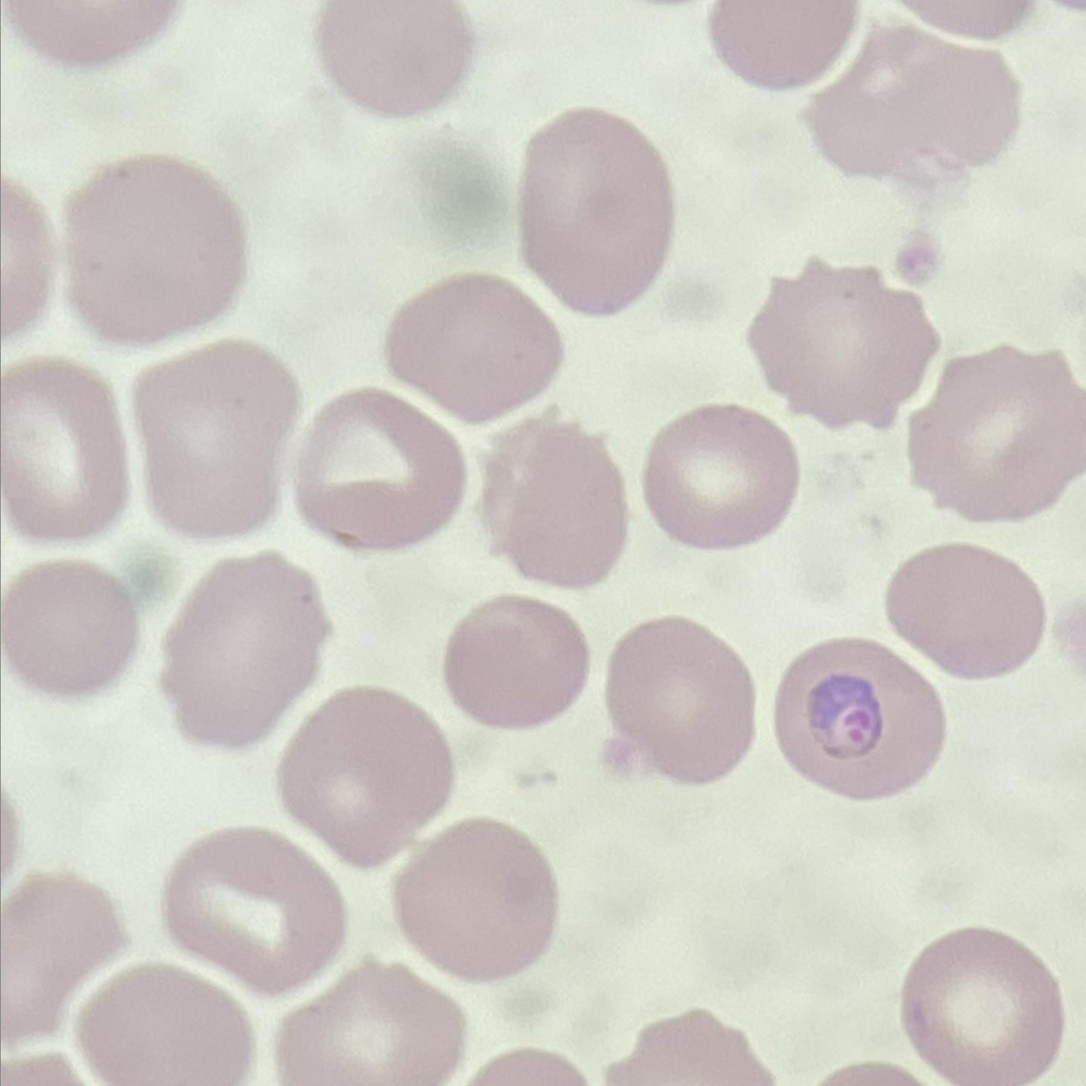Infected: (776, 637, 945, 799)
Uninfected: (63, 155, 246, 346), (131, 340, 300, 538), (811, 29, 1015, 188), (517, 109, 676, 311), (162, 551, 329, 743), (279, 688, 455, 867), (167, 826, 349, 996), (749, 263, 935, 429), (905, 345, 1079, 521), (297, 388, 468, 552), (395, 818, 558, 980), (387, 275, 561, 426), (603, 617, 757, 785), (899, 926, 1061, 1081), (481, 417, 627, 584), (2, 357, 132, 543), (644, 406, 802, 550), (889, 543, 1045, 685), (75, 966, 251, 1082), (443, 595, 587, 731), (2, 558, 137, 703)
